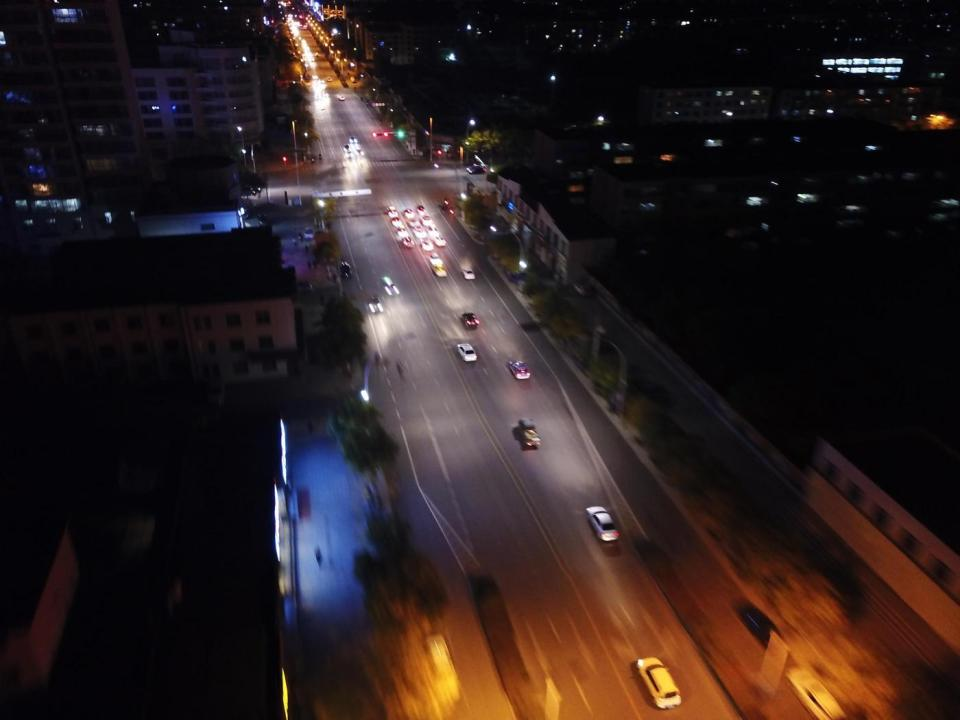bus: (336, 261, 352, 277)
car: (786, 665, 848, 720), (424, 634, 461, 700), (737, 604, 787, 652), (636, 655, 681, 708), (586, 505, 620, 544), (517, 418, 541, 447), (509, 359, 530, 379), (573, 280, 594, 297), (456, 343, 475, 361), (382, 276, 399, 296), (462, 310, 478, 328), (368, 294, 382, 314), (297, 280, 312, 296), (246, 181, 261, 193), (433, 265, 448, 276), (257, 214, 269, 227), (430, 252, 442, 265), (420, 240, 434, 251), (413, 227, 426, 238), (469, 166, 486, 174), (434, 236, 446, 247), (403, 208, 415, 219), (462, 268, 474, 279), (304, 227, 314, 240), (466, 164, 482, 172), (403, 237, 414, 248), (386, 206, 398, 216), (421, 216, 433, 226), (392, 217, 403, 227), (416, 205, 426, 215), (427, 228, 439, 236), (408, 219, 420, 227), (397, 228, 408, 236), (355, 150, 365, 156), (349, 136, 357, 142), (312, 74, 318, 80), (344, 145, 350, 151), (346, 152, 352, 158), (322, 91, 328, 96), (309, 56, 314, 62), (339, 95, 344, 100), (301, 39, 307, 43), (304, 46, 310, 50), (315, 52, 319, 57), (310, 63, 315, 67), (352, 79, 357, 83), (327, 77, 331, 81), (314, 80, 318, 84), (321, 85, 325, 89), (350, 76, 354, 80), (319, 80, 324, 83), (316, 95, 320, 98), (306, 51, 310, 54), (289, 13, 292, 16), (289, 17, 292, 20)
